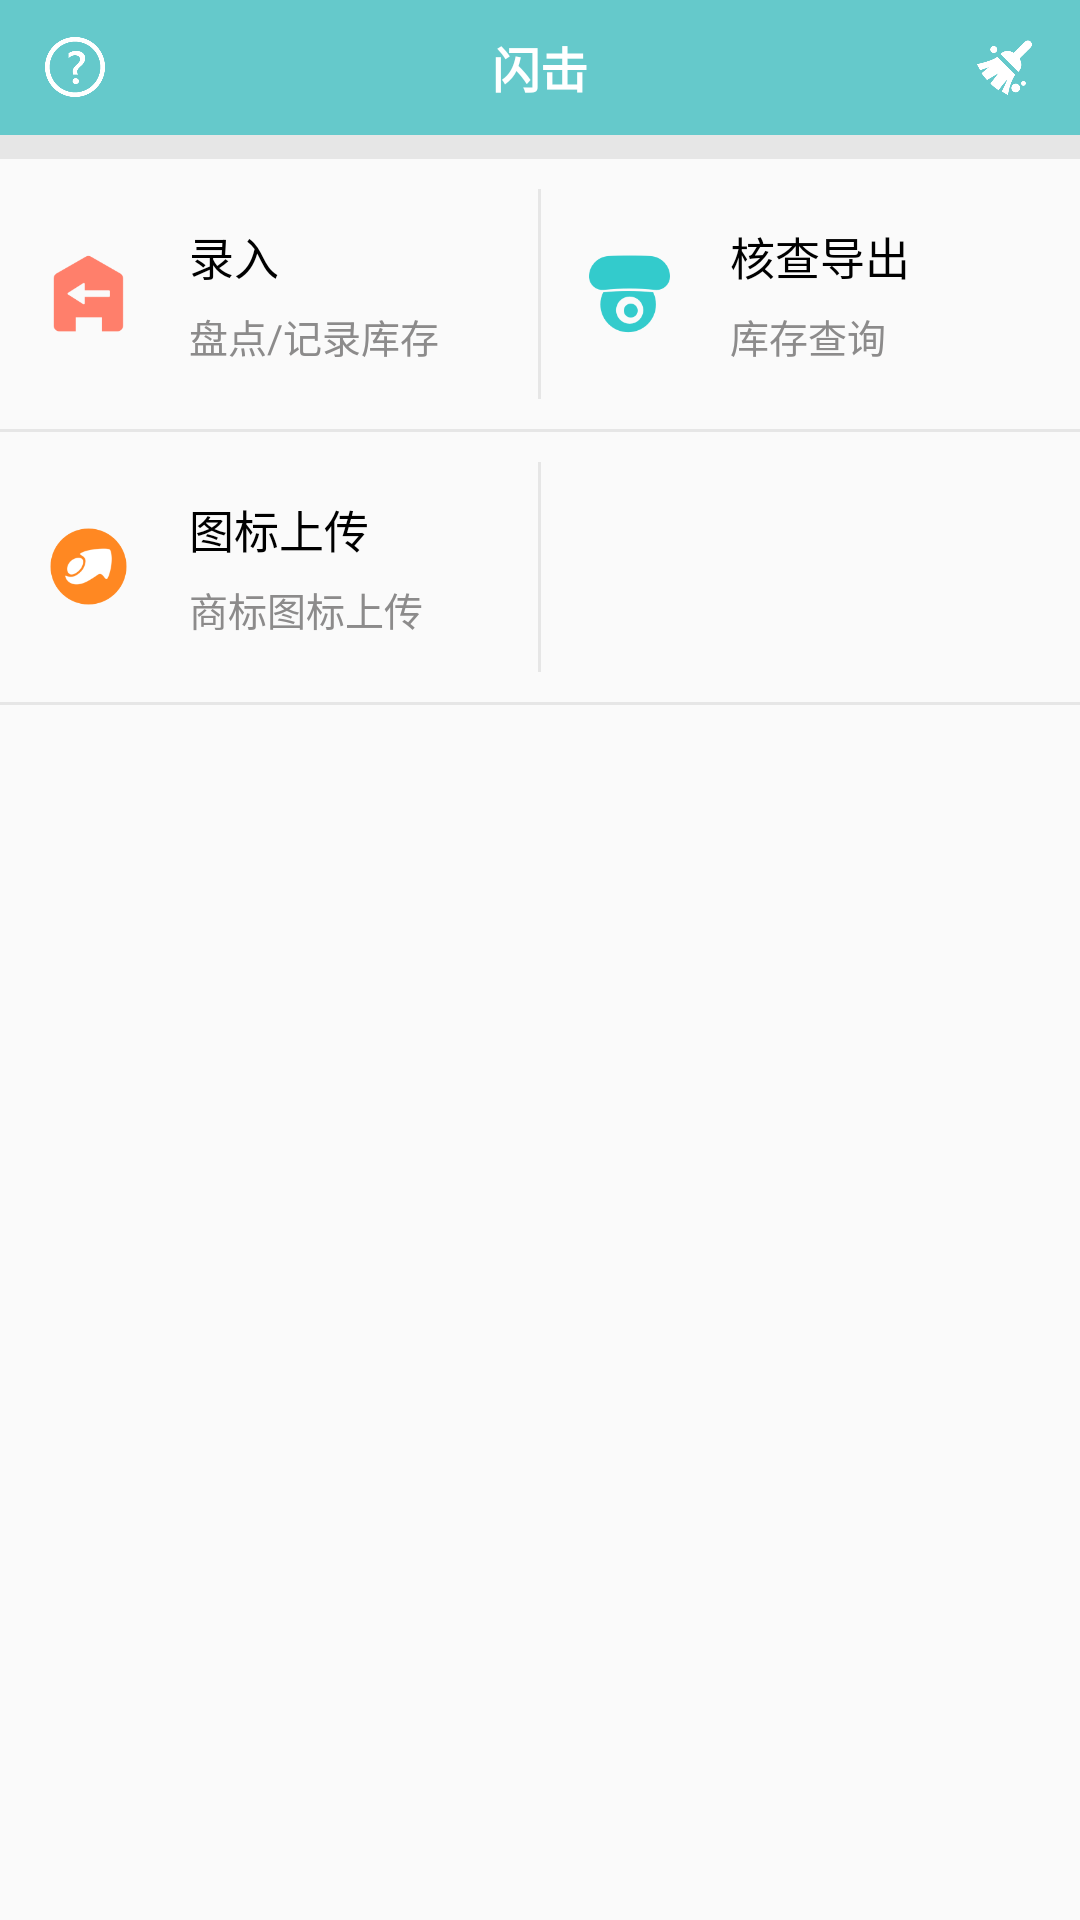

Icon click points for this 1080px x 1920px phone screenshot, format [x,y]:
clear: [1004,67]
question: [75,67]
stock in: [88,294]
